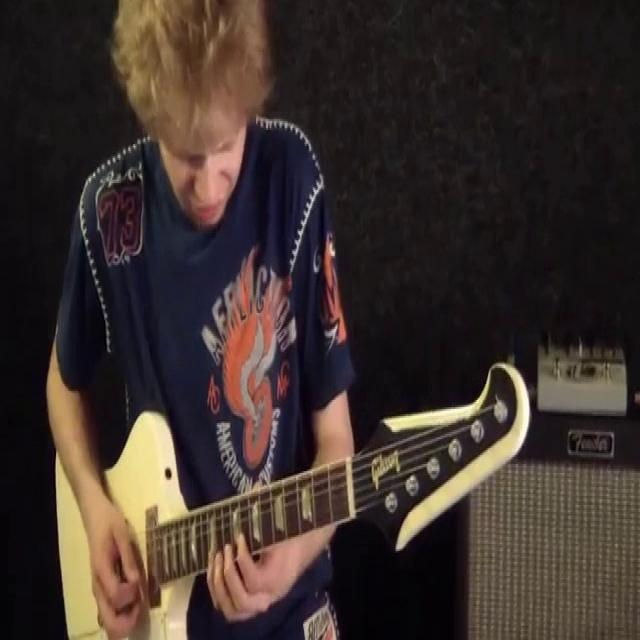Guitar: (47, 338, 542, 640)
